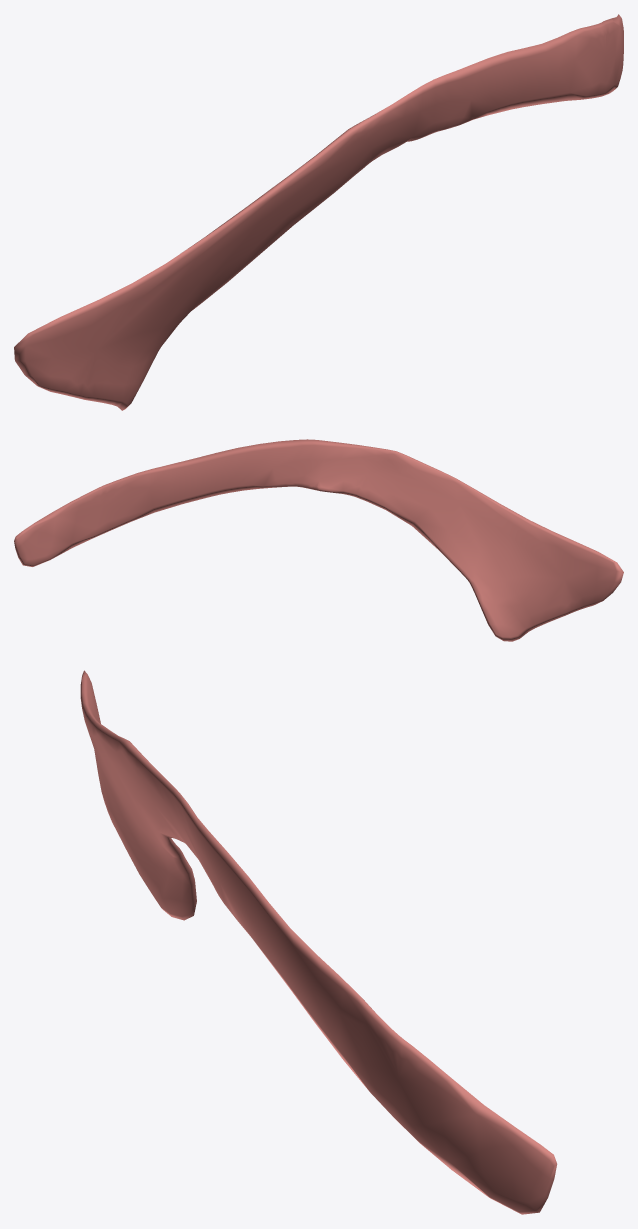
3 renders of one model, top to bottom at view 1: azimuth 30°, elevation 25°; view 2: azimuth 150°, elevation 25°; view 3: azimuth 270°, elevation 25°, orthographic. The views are drawn at different scales.
Visible parts, largest first — view 1: ZA_9b2b9653a010fe9e; view 2: ZA_9b2b9653a010fe9e; view 3: ZA_9b2b9653a010fe9e.
Part boxes in pixels (box(x1,y1,x2,y2)): ZA_9b2b9653a010fe9e: box(14, 14, 623, 410); ZA_9b2b9653a010fe9e: box(14, 439, 623, 641); ZA_9b2b9653a010fe9e: box(80, 670, 557, 1214).
Bounding box in the file's own units: 0.0496 × 0.015 × 0.0208.
